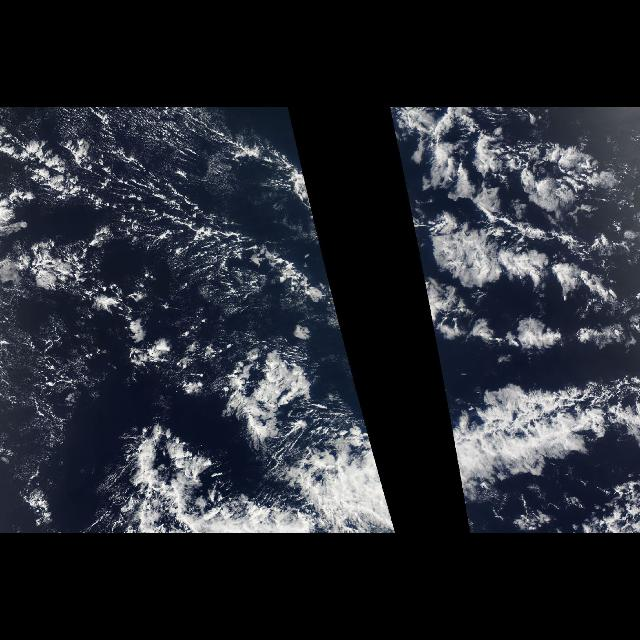Fish: (35, 114, 397, 530), (410, 212, 630, 530)
Flower: (394, 109, 636, 353)
Gravel: (48, 108, 332, 342)
